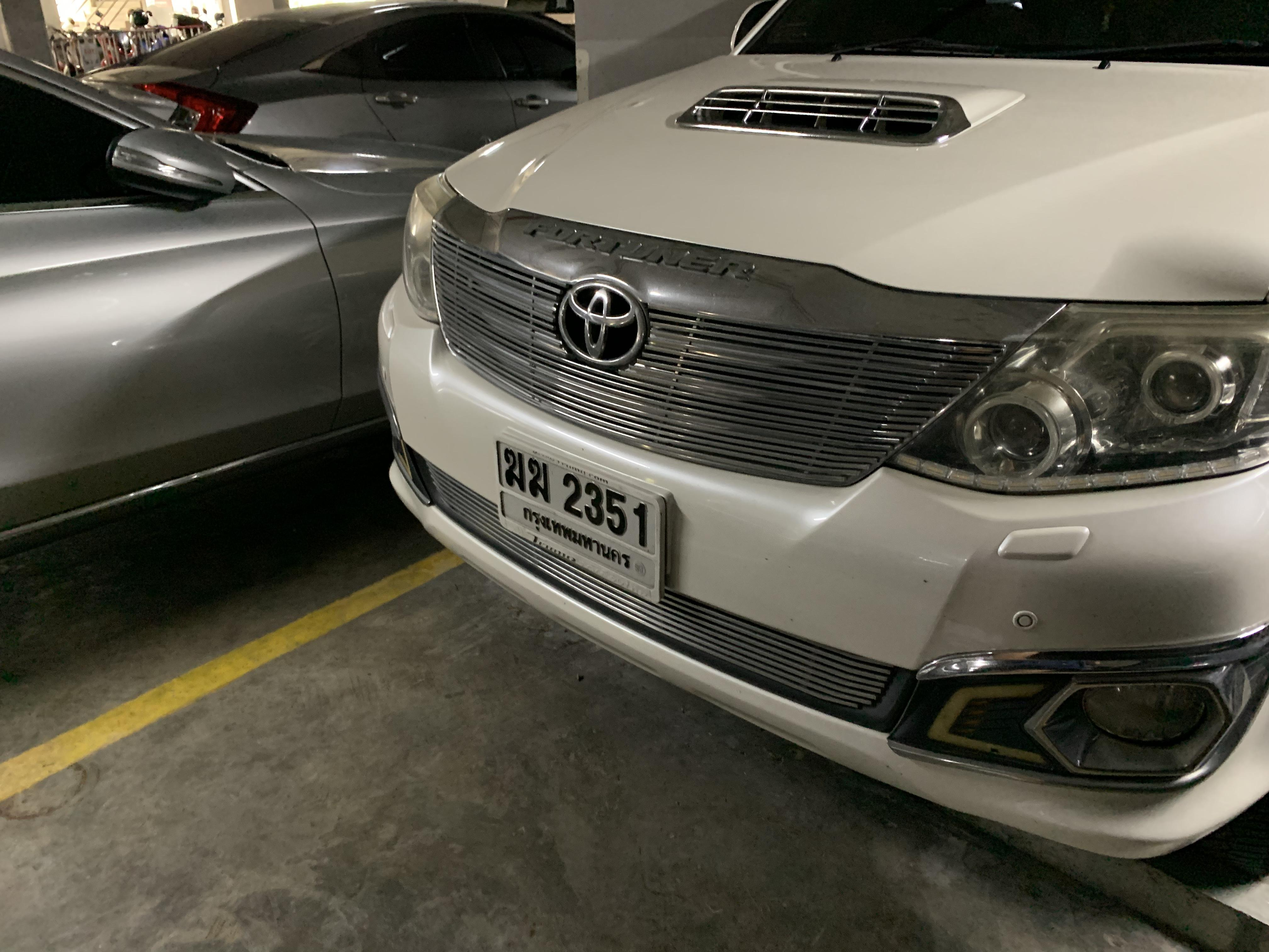license-plate: (490, 428, 669, 607)
